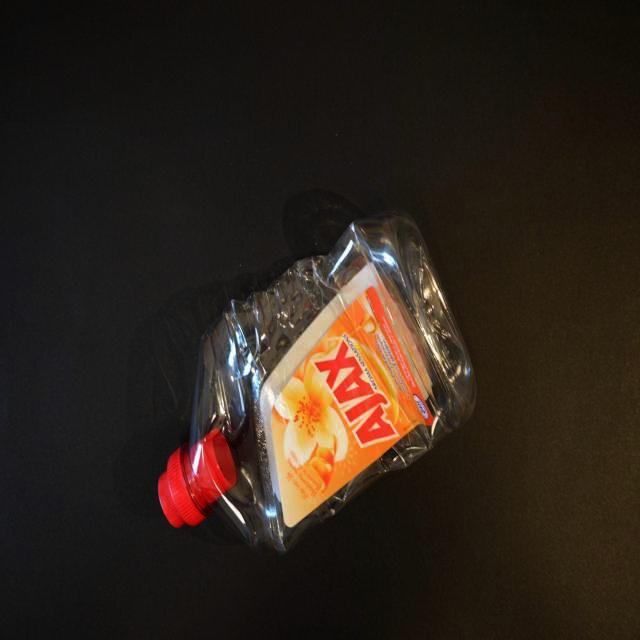bottle: (158, 210, 478, 553)
